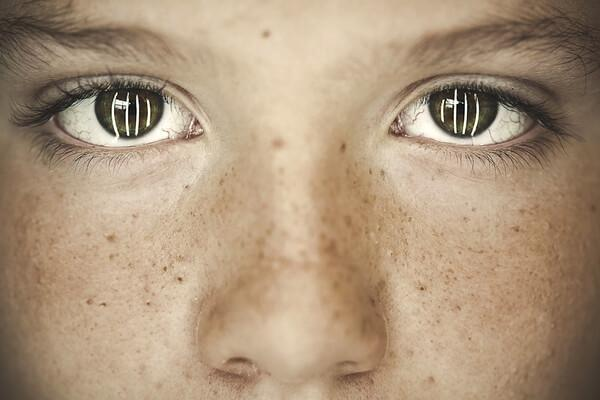Dark-Spots: (8, 130, 599, 352)
